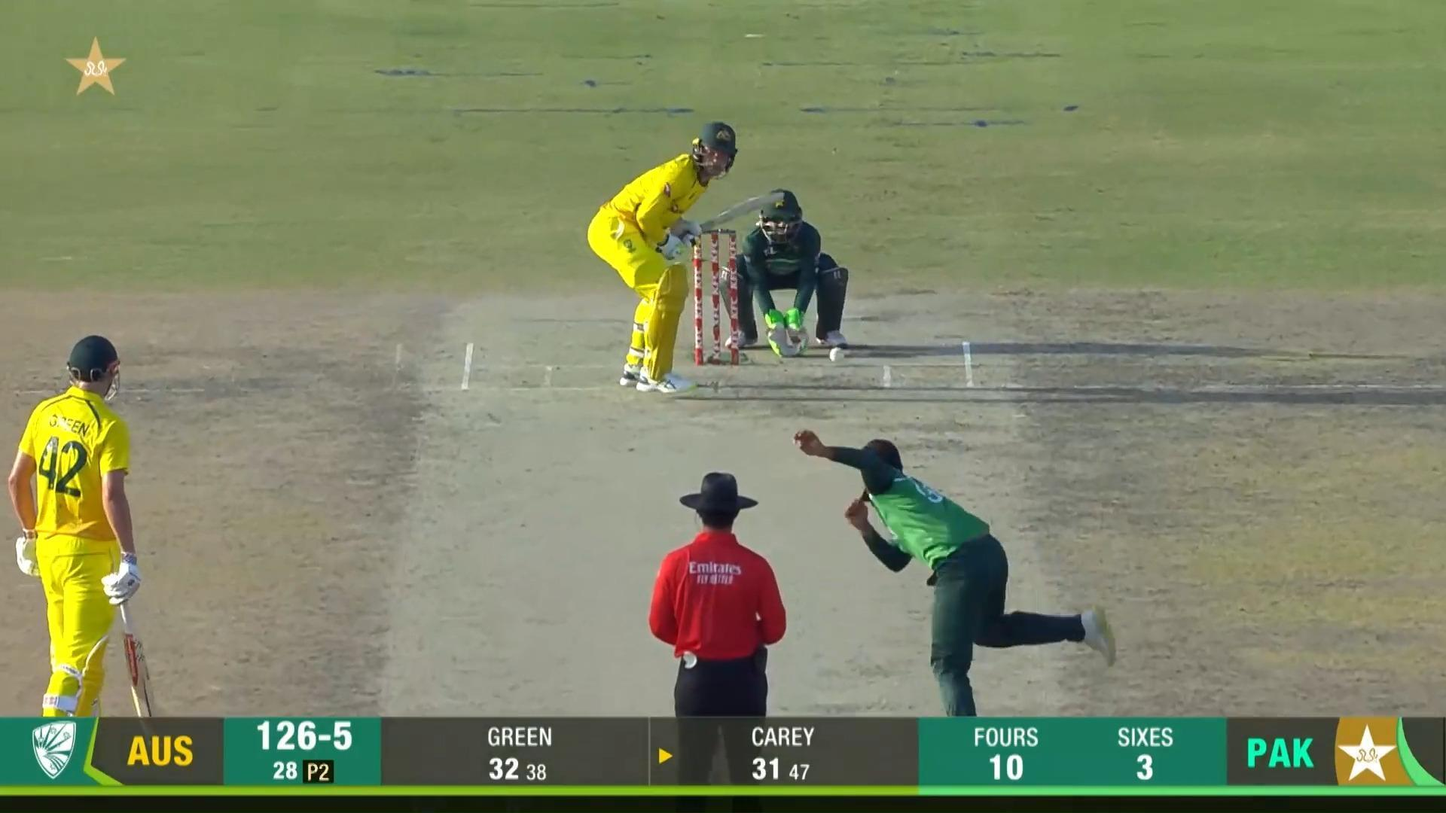BM 1: (586, 120, 785, 397)
BO: (792, 426, 1119, 776)
